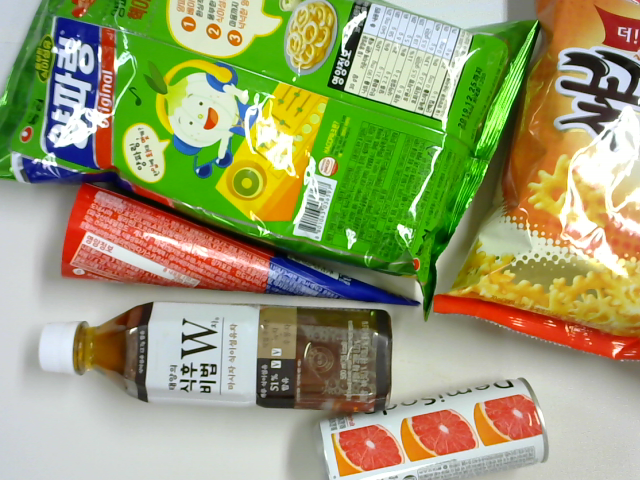Crabrang: (430, 1, 638, 363)
Demisoda_Grapefruit_Can_250ml: (315, 377, 551, 480)
Oninon_Ring: (1, 1, 541, 317)
Post-meal_recipe_W_tea_500ml: (37, 300, 394, 415)
World_Cone_Banila: (61, 181, 423, 309)
